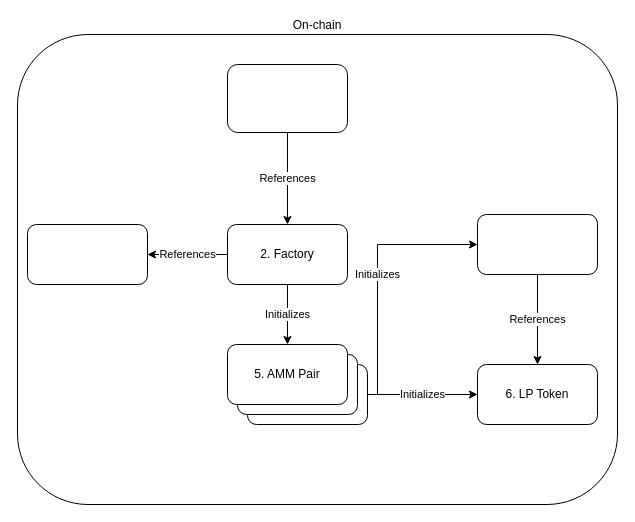
The diagram is 635 pixels wide and 522 high, and some of its shapes have lost their labels. Here are the shapes that lost their labels. From the top down, the centre of each, then its label:
At (x=287, y=98): "1. Router Contract".
At (x=87, y=254): "3. Shade Dao".
At (x=537, y=244): "4. Staking Contract".
